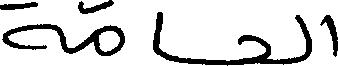X: (0, 0, 61, 54), (82, 0, 121, 60), (239, 30, 266, 65), (295, 10, 309, 65), (327, 10, 337, 61), (155, 0, 161, 65)
